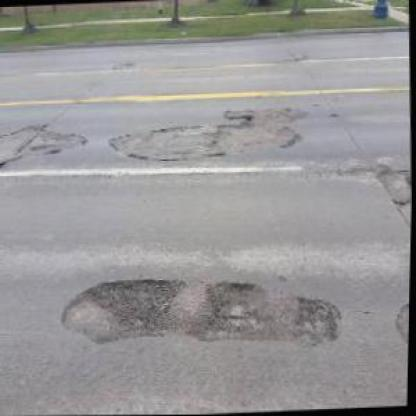pothole: (89, 277, 190, 330), (205, 275, 266, 337), (296, 291, 342, 344), (241, 111, 257, 126)
